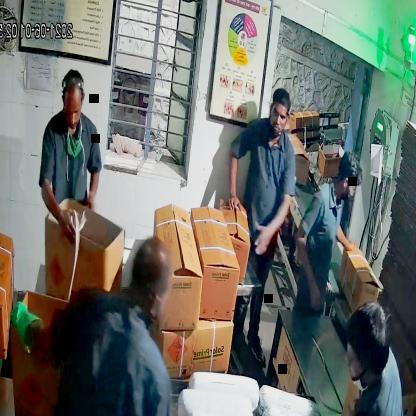no_goggles: (60, 94, 88, 124), (266, 103, 290, 129)
